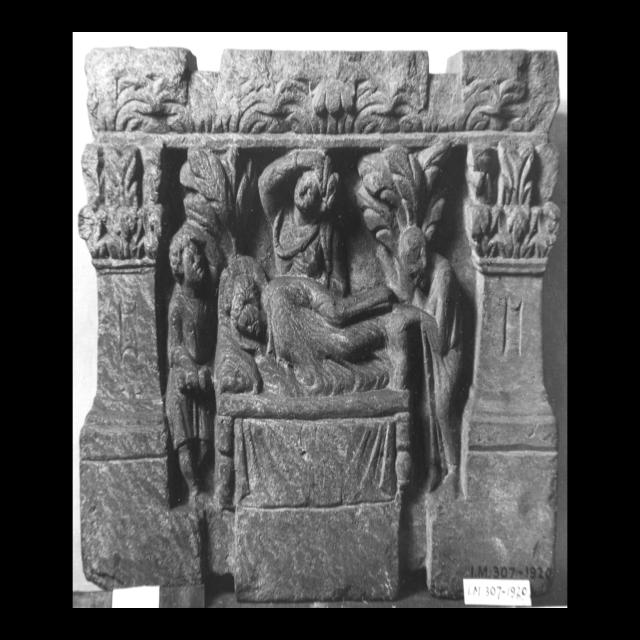buddha-sleeping: (214, 256, 416, 507)
